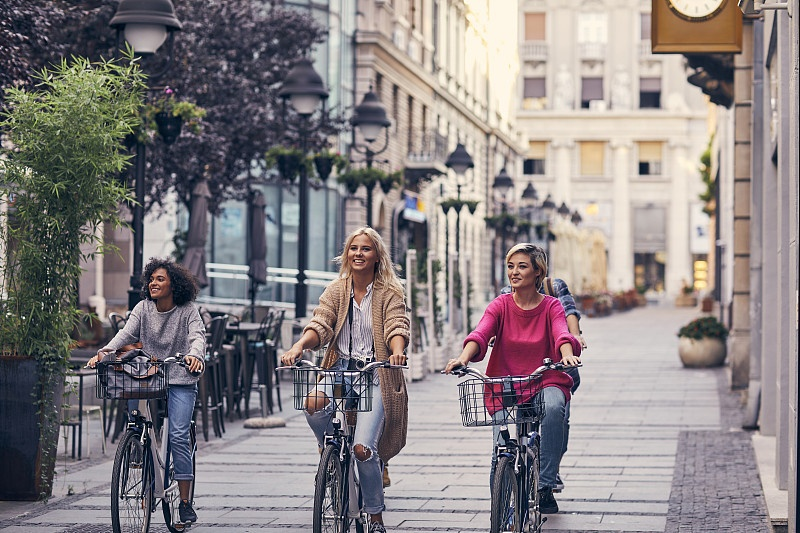non-vehicle: (465, 349, 574, 533), (296, 347, 402, 533), (103, 347, 197, 533)
